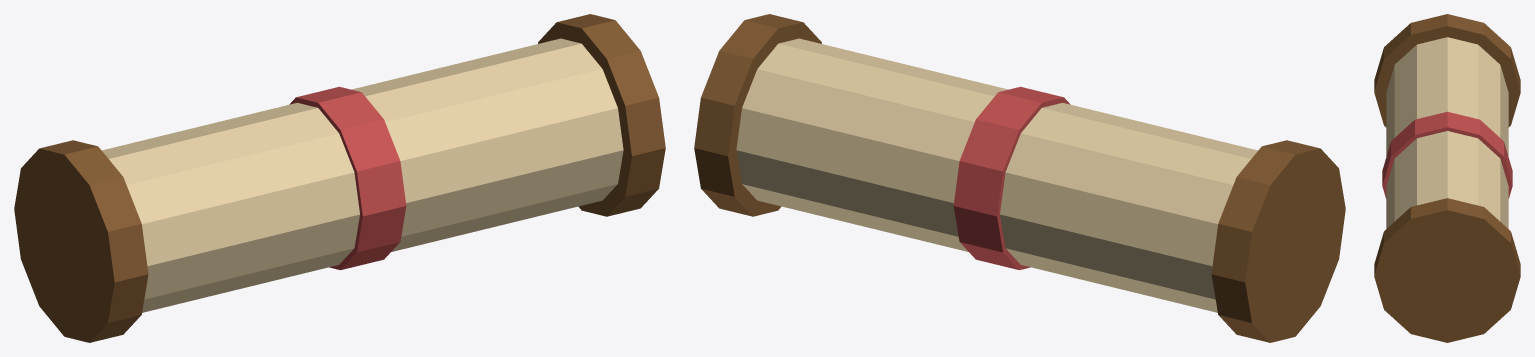
Rendered from Scroll.fbx.
The picture shows the model from 3 angles, left to right: view 1: azimuth 30°, elevation 25°; view 2: azimuth 150°, elevation 25°; view 3: azimuth 270°, elevation 25°; orthographic projection. The views are drawn at different scales.
Parts seen in each view (by area): view 1: Scroll_Roll, Scroll_Cap_L, Scroll_Cap_R, Scroll_Tie; view 2: Scroll_Roll, Scroll_Cap_L, Scroll_Cap_R, Scroll_Tie; view 3: Scroll_Roll, Scroll_Cap_R, Scroll_Cap_L, Scroll_Tie.
Boxes of the visible parts, x1,y1,x2,y2 form: Scroll_Roll: [102, 38, 623, 312]; Scroll_Cap_L: [14, 140, 148, 342]; Scroll_Cap_R: [538, 14, 665, 216]; Scroll_Tie: [289, 86, 406, 270]; Scroll_Roll: [736, 38, 1257, 312]; Scroll_Cap_L: [1211, 140, 1345, 342]; Scroll_Cap_R: [694, 14, 821, 216]; Scroll_Tie: [953, 86, 1070, 270]; Scroll_Roll: [1386, 37, 1508, 228]; Scroll_Cap_R: [1374, 198, 1520, 342]; Scroll_Cap_L: [1374, 14, 1520, 127]; Scroll_Tie: [1382, 111, 1512, 198].
Size of the model in its own units: 228 by 72 by 72.
